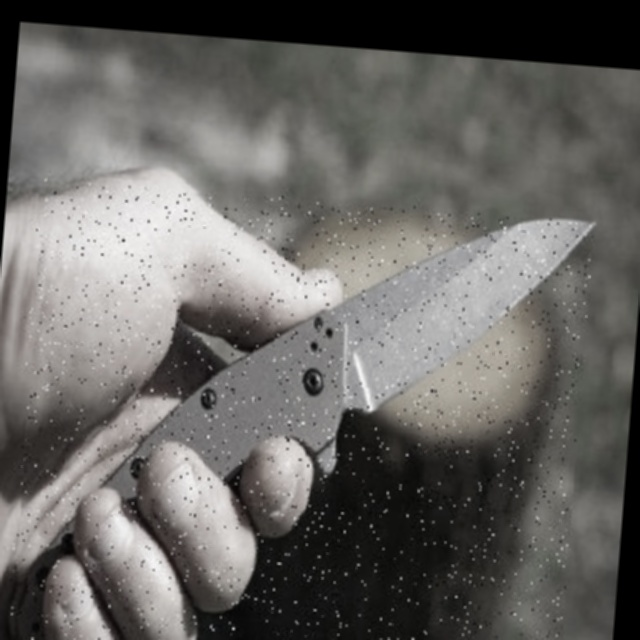Sharp-Object: (3, 178, 595, 640)
